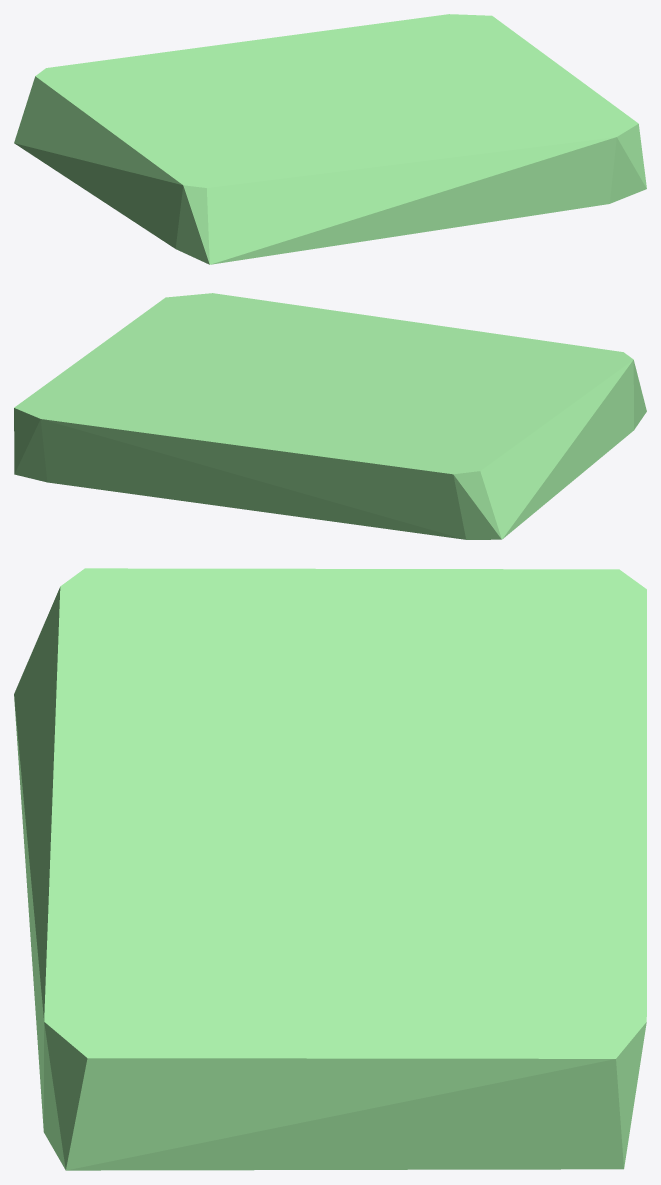
File: UMIRobot_robot_base_coll_13.dae
3 views of the same model, one above another, from view 1: azimuth 30°, elevation 25°; view 2: azimuth 150°, elevation 25°; view 3: azimuth 270°, elevation 25° (orthographic). The views are drawn at different scales.
Visible parts, largest first — view 1: node; view 2: node; view 3: node.
Part boxes in pixels (x1,y1,x2,y2): node: (14,14,646,264); node: (14,293,646,539); node: (14,568,646,1170).
Size of the model in its own units: 0.0535 by 0.0121 by 0.0341.
